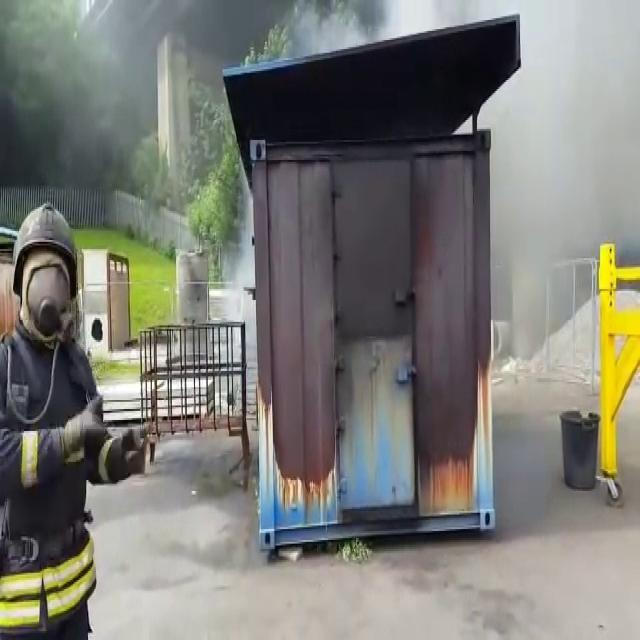Smoke: (510, 7, 640, 270)
